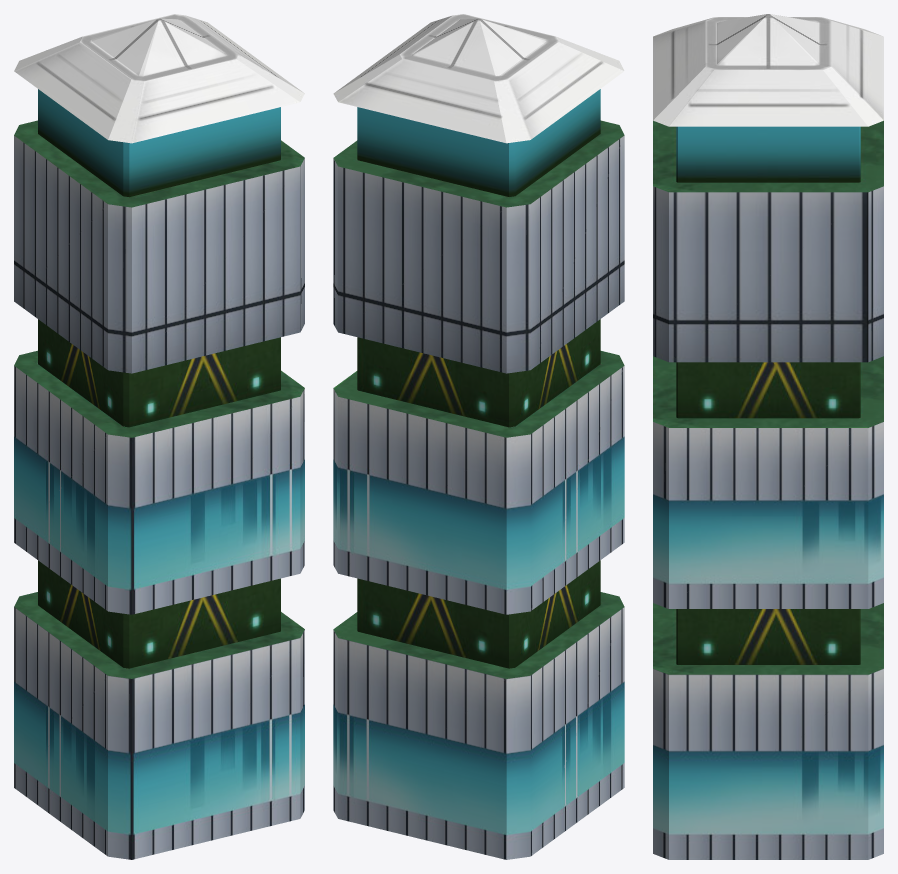
Rendered from House_30.FBX.
The picture shows the model from 3 angles, left to right: view 1: azimuth 30°, elevation 25°; view 2: azimuth 150°, elevation 25°; view 3: azimuth 270°, elevation 25°; orthographic projection. The views are drawn at different scales.
Parts seen in each view (by area): view 1: House_30; view 2: House_30; view 3: House_30.
Part boxes in pixels (x1,y1,x2,y2): House_30: [14, 14, 304, 859]; House_30: [333, 14, 624, 859]; House_30: [653, 14, 883, 859].
Bounding box in the file's own units: 30.07 × 115 × 30.07.
1 material, 1 textured.
